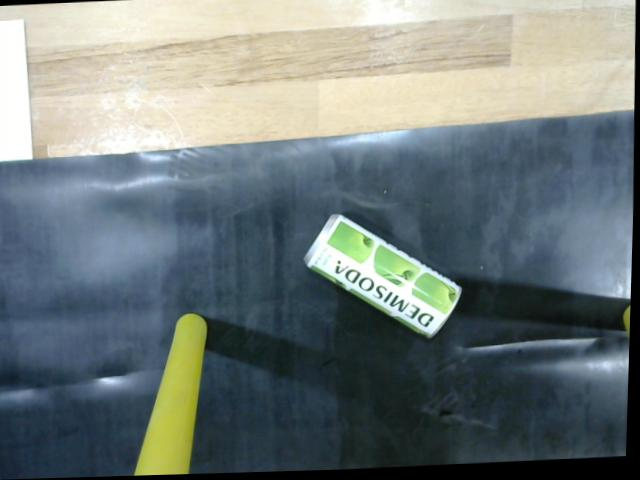can: (294, 211, 471, 351)
